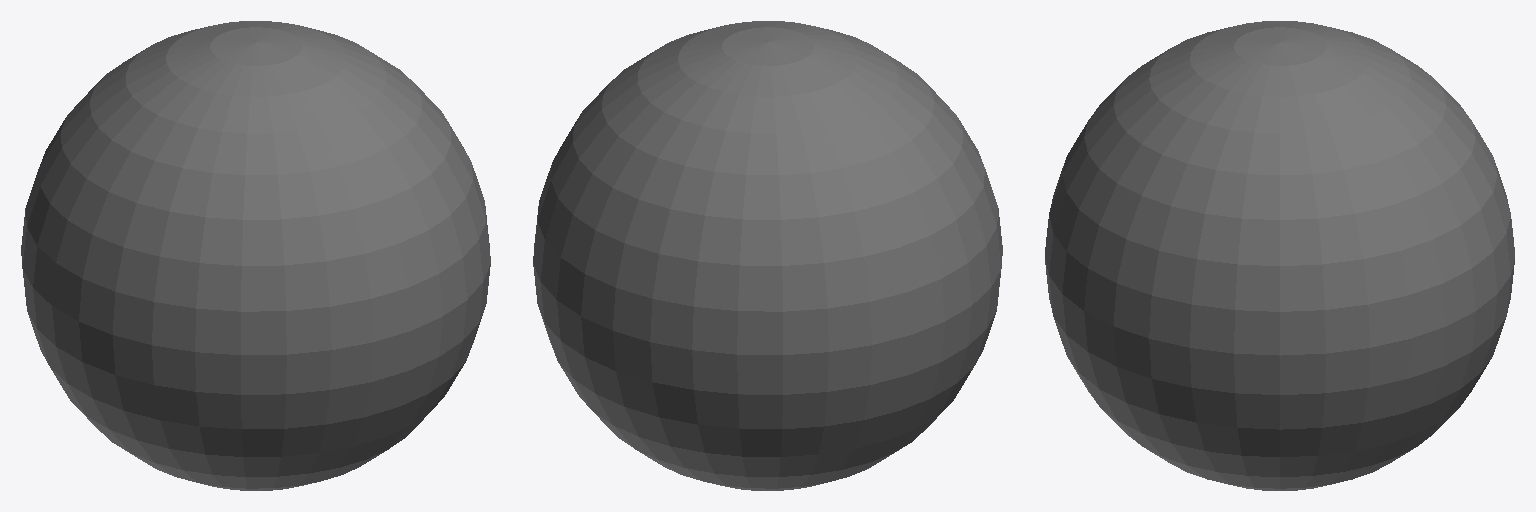
The model's file is CornellSphere.obj.
3 renders of one model, left to right at view 1: azimuth 30°, elevation 25°; view 2: azimuth 150°, elevation 25°; view 3: azimuth 270°, elevation 25°, orthographic.
Parts seen in each view (by area): view 1: Sphere; view 2: Sphere; view 3: Sphere.
Boxes of the visible parts, x1,y1,x2,y2 form: Sphere: [21, 21, 490, 490]; Sphere: [533, 21, 1002, 490]; Sphere: [1045, 21, 1514, 490].
Bounding box in the file's own units: 1 × 1 × 1.